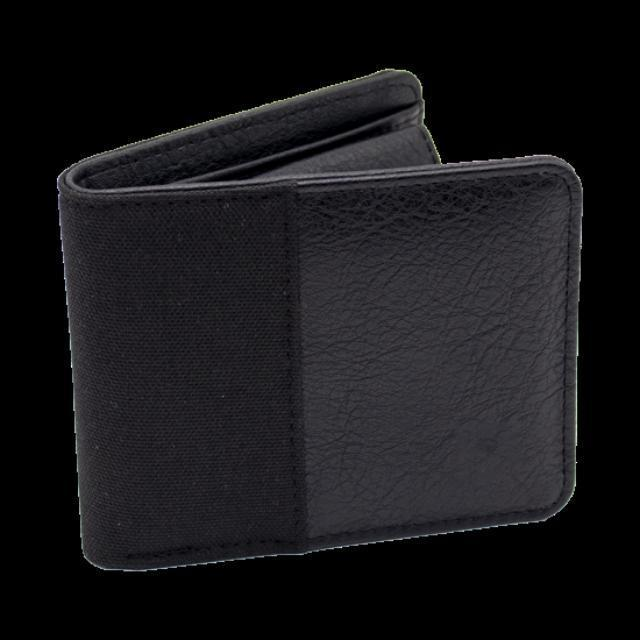wallet: (68, 69, 606, 585)
